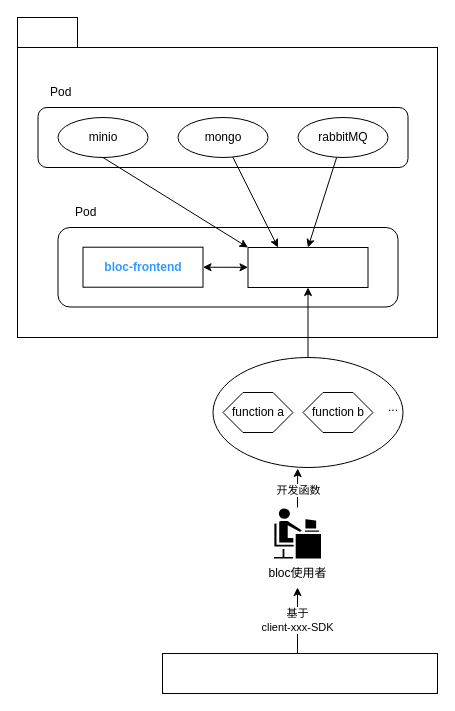
Some shapes in this 455 by 711 pixel diagram are drawn without their labels. The shapes that lost their labels are listed below. From the top down, each one's centre as x and y in pixels, then its label:
[47,32]: Minikube
[307,267]: bloc-server
[300,673]: bloc-client-go/python/...
